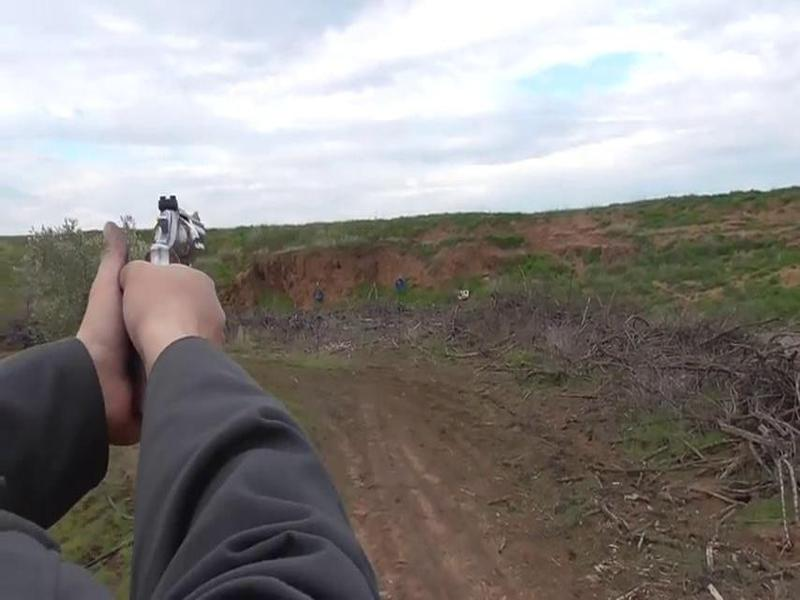Revolver: (137, 184, 217, 270)
